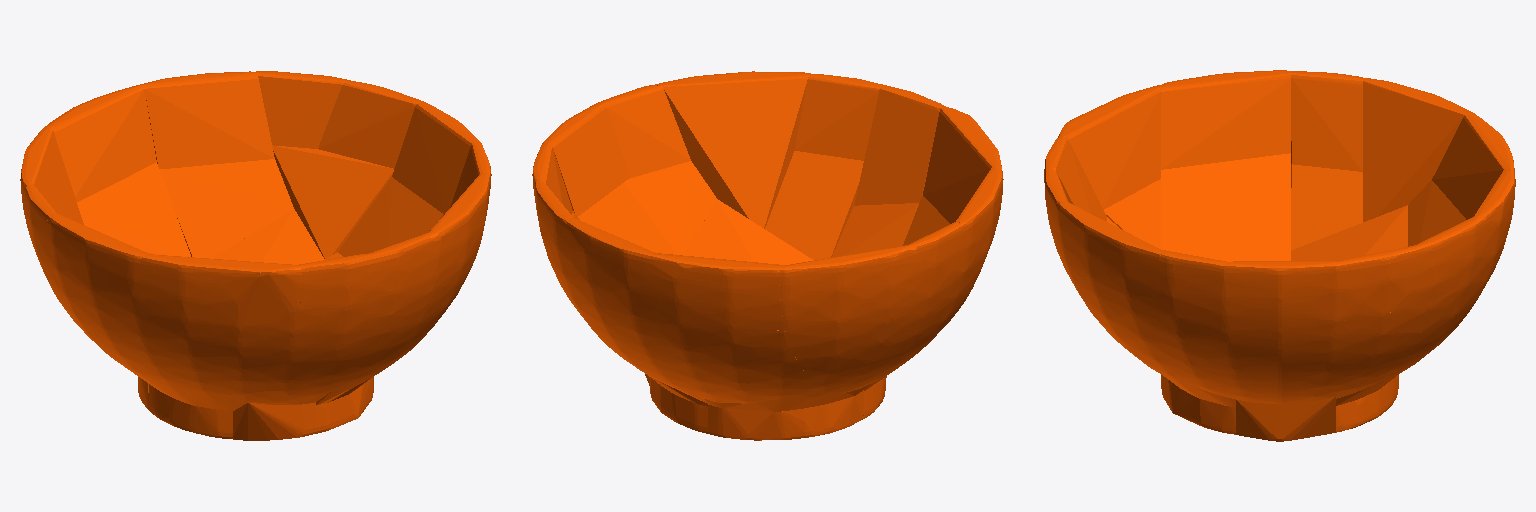
The robot description file, URDF, robot "design":
<?xml version="1.0"?>
<robot name="design">
  <material name="obj_color">
      <color rgba="1.0 0.423529411765 0.0392156862745 1.0"/>
  </material>
  <link name="base">
    <visual>
      <origin xyz="0.0 0.0 0.0"/>
      <geometry>
        <mesh filename="bowl.obj" scale="1 1 1"/>
      </geometry>
      <material name="obj_color"/>
    </visual>
    <collision>
      <origin xyz="0.0 0.0 0.0"/>
      <geometry>
        <mesh filename="bowl.obj" scale="1 1 1"/>
      </geometry>
    </collision>
  </link>
</robot>

--- Facts derived from the render (not from the file) ---
3 views of the same robot in one strip: view 1: azimuth 30°, elevation 25°; view 2: azimuth 150°, elevation 25°; view 3: azimuth 270°, elevation 25° (orthographic).
Robot: design — 1 links, 0 joints (none); root link base; default pose: every joint at zero.
Links seen in each view (by area): view 1: base; view 2: base; view 3: base.
Boxes of the visible links, x1,y1,x2,y2 form: base: [20, 71, 491, 440]; base: [532, 71, 1003, 440]; base: [1044, 70, 1515, 441].
Size in the robot's own frame: 0.1503 by 0.1505 by 0.0782 metres.
Meshes: 1 distinct files referenced, 1 mesh visuals loaded (1 OBJ).